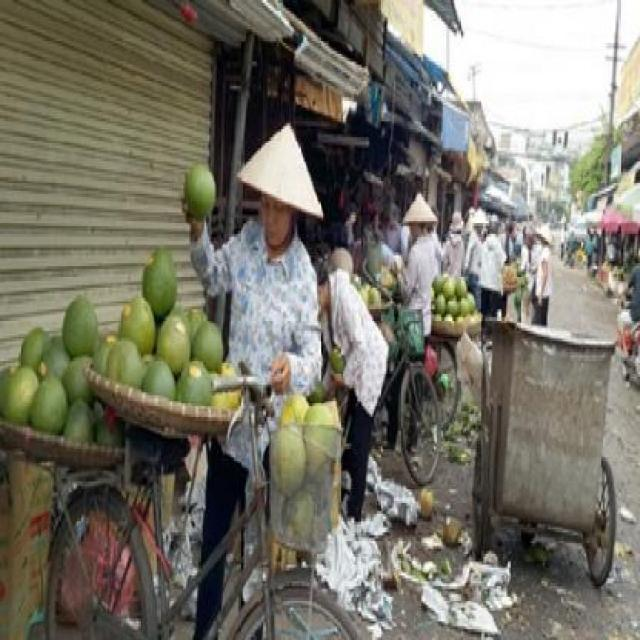garbage: (371, 468, 504, 626), (335, 506, 408, 638), (445, 369, 478, 490), (516, 522, 580, 578)
